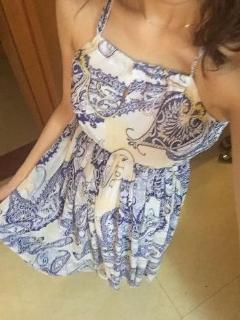sling: (0, 0, 229, 291)
